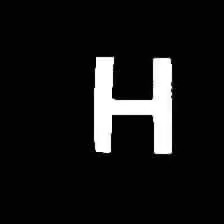LTR_H: (79, 44, 179, 166)
